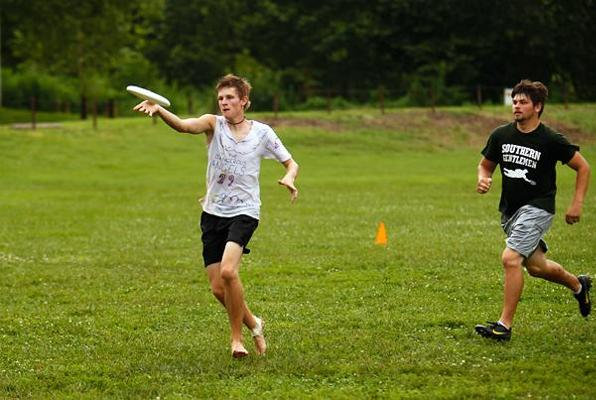person: (134, 73, 299, 360)
